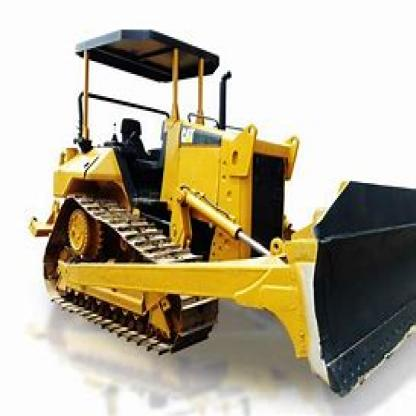bull_dozer/loader/grader: (35, 19, 415, 396)
